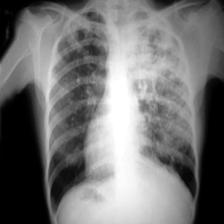tuberculosis: (42, 5, 202, 215)
